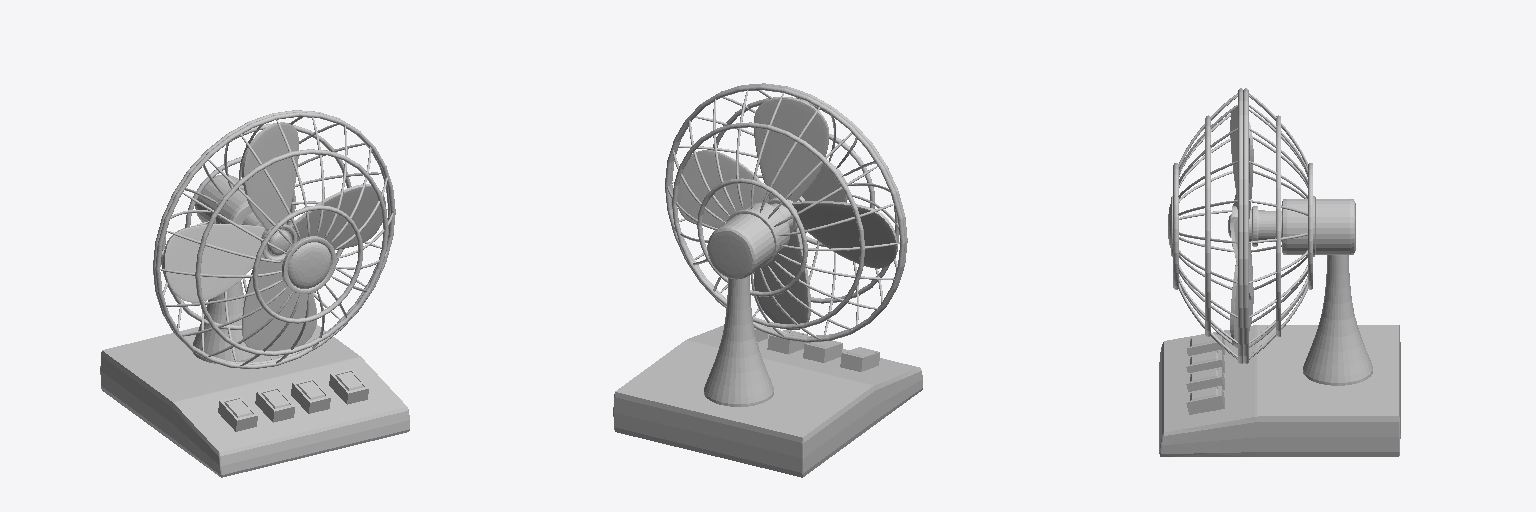
File: Table Fan.obj
3 renders of one model, left to right at view 1: azimuth 30°, elevation 25°; view 2: azimuth 150°, elevation 25°; view 3: azimuth 270°, elevation 25°, orthographic.
Bounding box in the file's own units: 18.5 × 22.87 × 16.11.